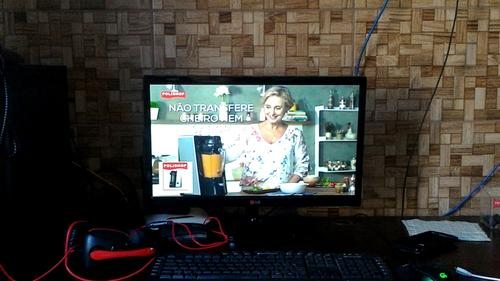Polishop #1: (158, 161, 194, 194)
